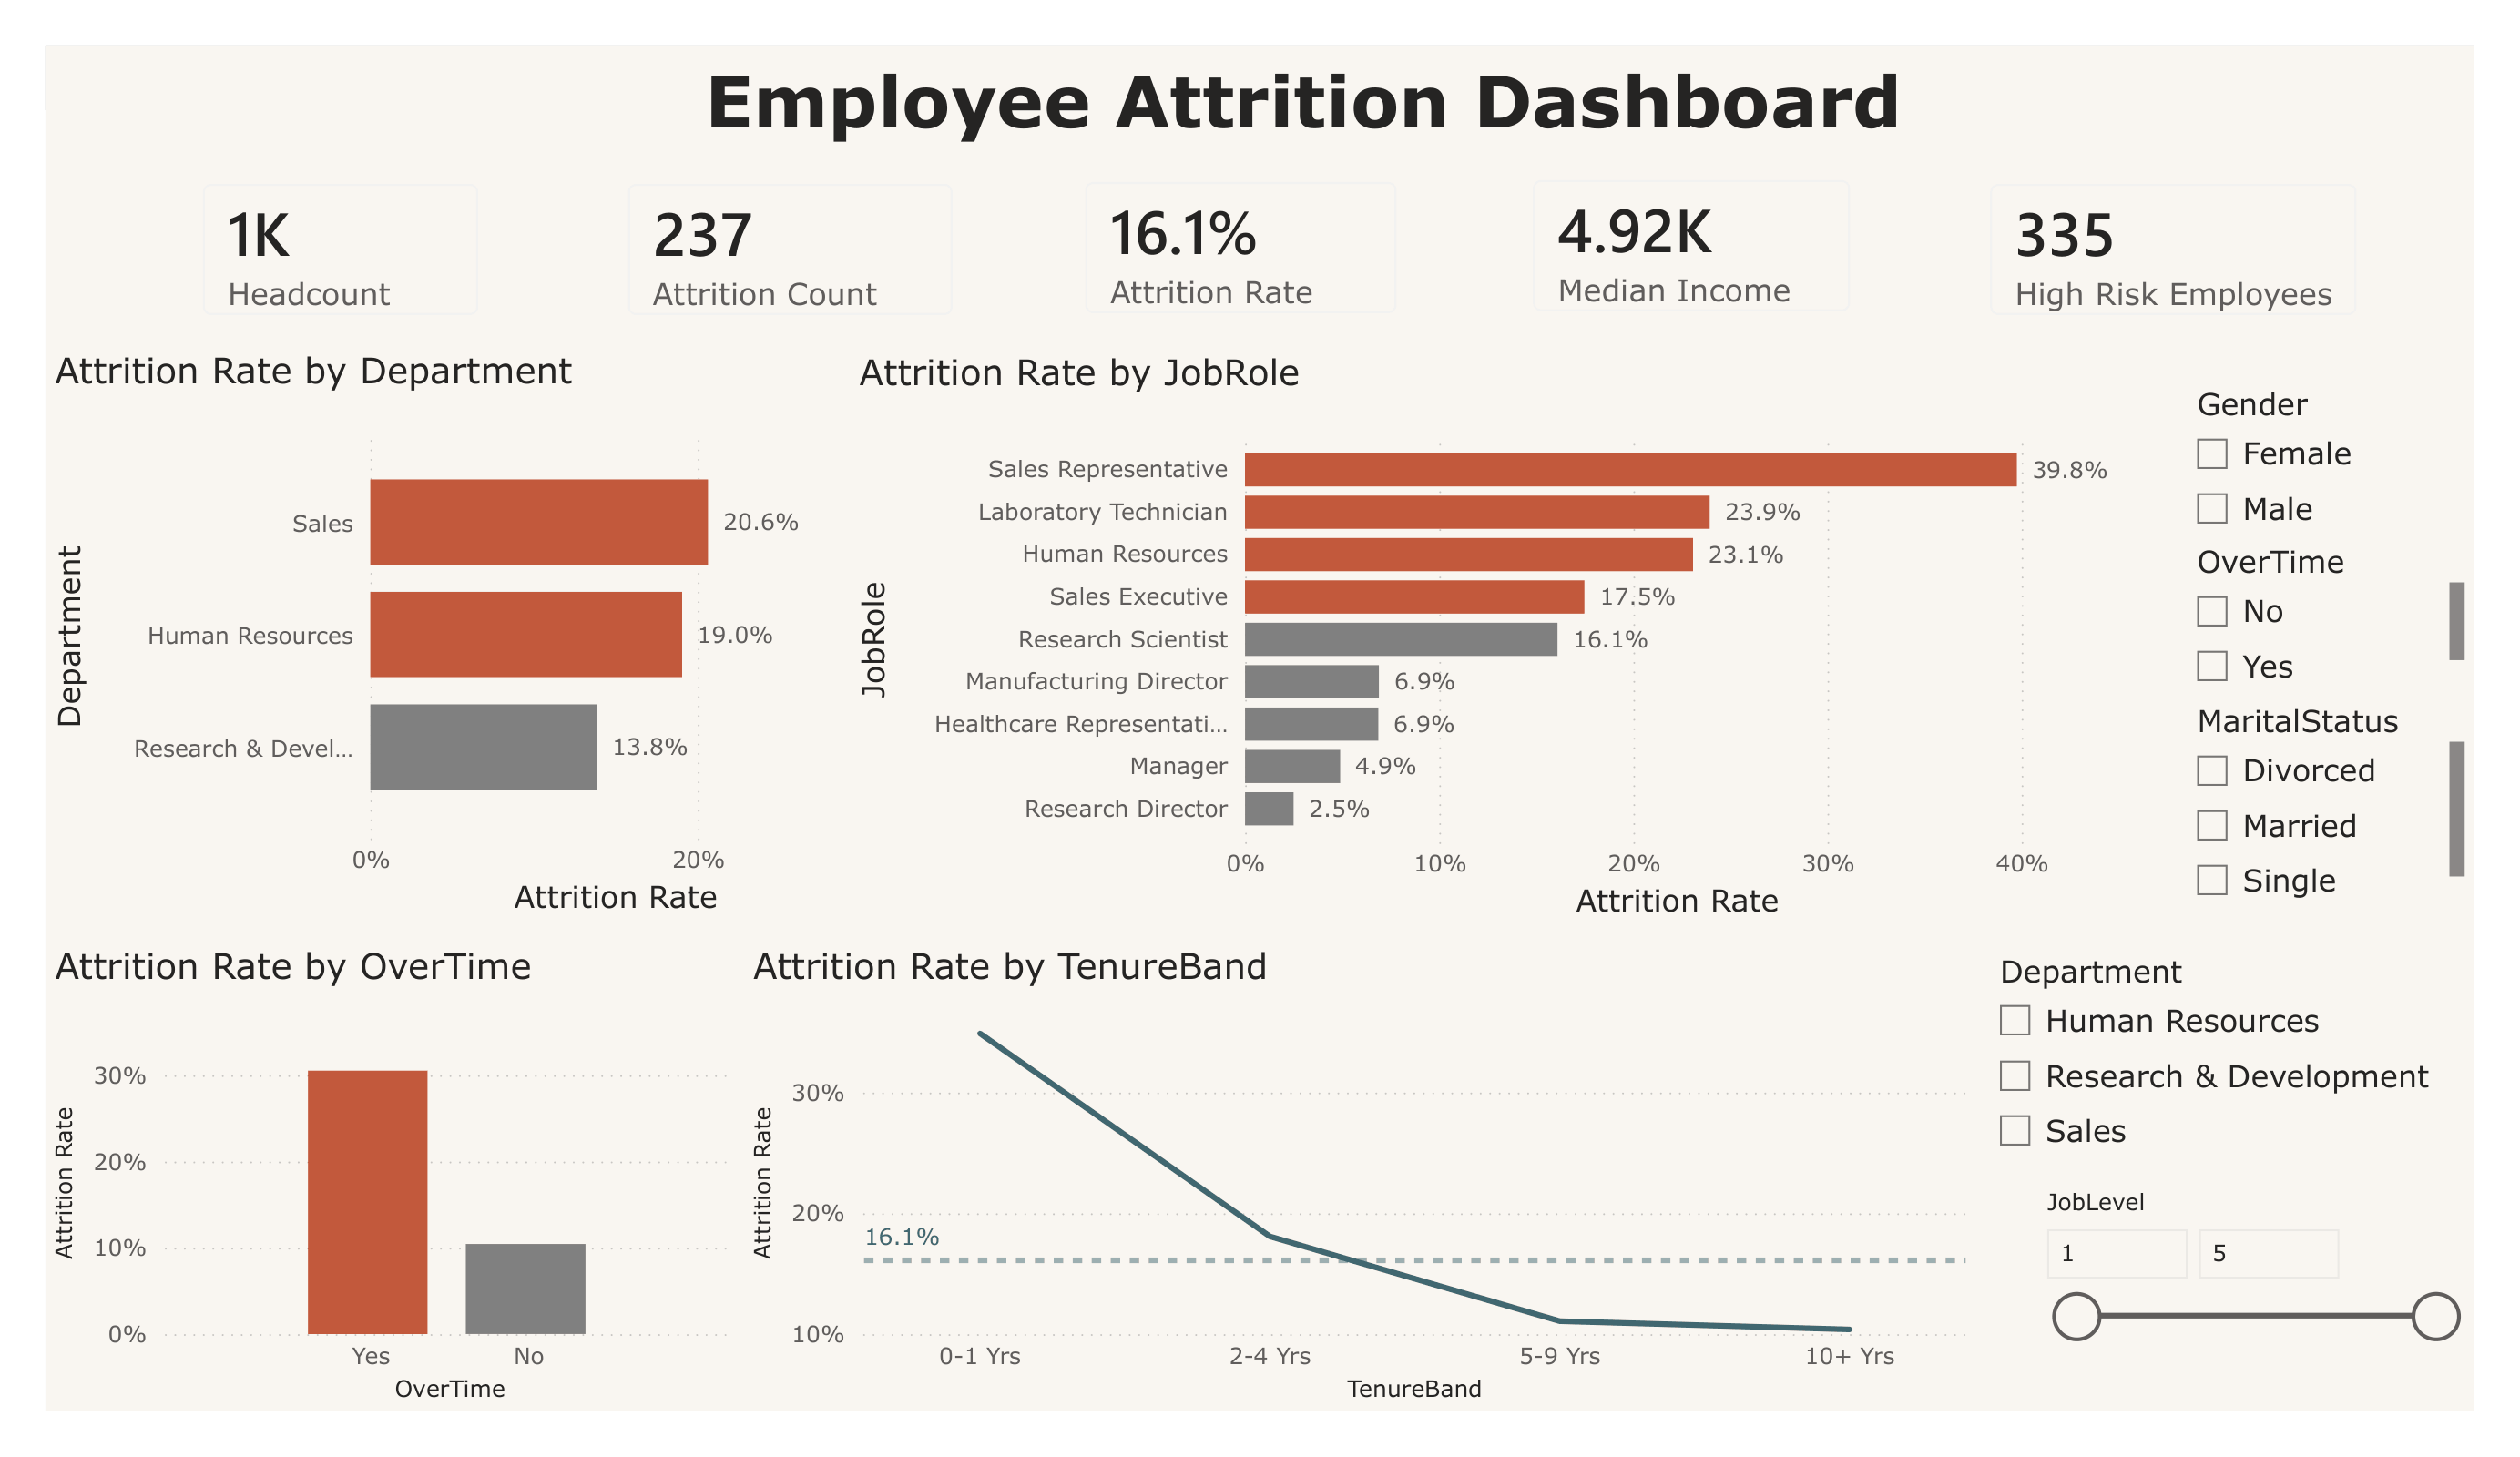

What the dashboard file says about the page in this screenshot:
{"tool":"powerbi","page":{"name":"Page 1","canvas":[1280,720],"ordinal":0},"visuals":[{"type":"cardVisual","fields":{"Data":["HR.Headcount"]},"box":[0,0,180,158.8],"z":0},{"type":"cardVisual","fields":{"Data":["HR.Attrition Count"]},"box":[161.9,0,205.8,159.2],"z":1000},{"type":"cardVisual","fields":{"Data":["HR.Attrition Rate"]},"box":[348.5,0,197.6,159.2],"z":2000},{"type":"cardVisual","fields":{"Data":["HR.Median Income"]},"box":[528.3,0,201.7,159.2],"z":3000},{"type":"cardVisual","fields":{"Data":["HR.High Risk Employees"]},"box":[715,0,227,159],"z":4000},{"type":"clusteredBarChart","fields":{"Category":["HR.Department"],"Y":["HR.Attrition Rate"]},"box":[0,159.2,367.8,304.6],"z":5000},{"type":"clusteredBarChart","fields":{"Category":["HR.JobRole"],"Y":["HR.Attrition Rate"]},"box":[367.8,159.2,435,304.6],"z":6000},{"type":"clusteredColumnChart","fields":{"Category":["HR.OverTime"],"Y":["HR.Attrition Rate"]},"box":[0,473.4,367.8,247],"z":7000},{"type":"lineChart","fields":{"Y":["HR.Attrition Rate"],"Category":["HR.TenureBand"]},"box":[368,473,435,247],"z":8000},{"type":"slicer","fields":{"Values":["HR.Department"]},"box":[812.4,159.2,238.8,123.5],"z":9000},{"type":"slicer","fields":{"Values":["HR.Gender"]},"box":[812.5,282.5,238.8,91.2],"z":10000},{"type":"slicer","fields":{"Values":["HR.JobLevel"]},"box":[917.5,383.8,238.8,117.5],"z":11000},{"type":"slicer","fields":{"Values":["HR.OverTime"]},"box":[1051,282,209,91],"z":12000},{"type":"slicer","fields":{"Values":["HR.MaritalStatus"]},"box":[1051,159,209,123],"z":13000}]}

Visuals, with their boxes on the page's 1280x720 design canvas (x1, y1, x2, y2). These are canvas units, not pixel positions in the 2520x1457 screenshot, which may show the page scaled, cropped or inside an application window:
cardVisual - HR.Headcount: left=0, top=0, right=180, bottom=159
cardVisual - HR.Attrition Count: left=162, top=0, right=368, bottom=159
cardVisual - HR.Attrition Rate: left=348, top=0, right=546, bottom=159
cardVisual - HR.Median Income: left=528, top=0, right=730, bottom=159
cardVisual - HR.High Risk Employees: left=715, top=0, right=942, bottom=159
clusteredBarChart - HR.Department x HR.Attrition Rate: left=0, top=159, right=368, bottom=464
clusteredBarChart - HR.JobRole x HR.Attrition Rate: left=368, top=159, right=803, bottom=464
clusteredColumnChart - HR.OverTime x HR.Attrition Rate: left=0, top=473, right=368, bottom=720
lineChart - HR.Attrition Rate x HR.TenureBand: left=368, top=473, right=803, bottom=720
slicer - HR.Department: left=812, top=159, right=1051, bottom=283
slicer - HR.Gender: left=812, top=282, right=1051, bottom=374
slicer - HR.JobLevel: left=918, top=384, right=1156, bottom=501
slicer - HR.OverTime: left=1051, top=282, right=1260, bottom=373
slicer - HR.MaritalStatus: left=1051, top=159, right=1260, bottom=282
